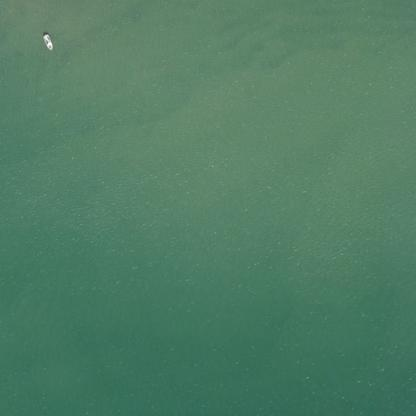ship: (34, 28, 60, 52)
